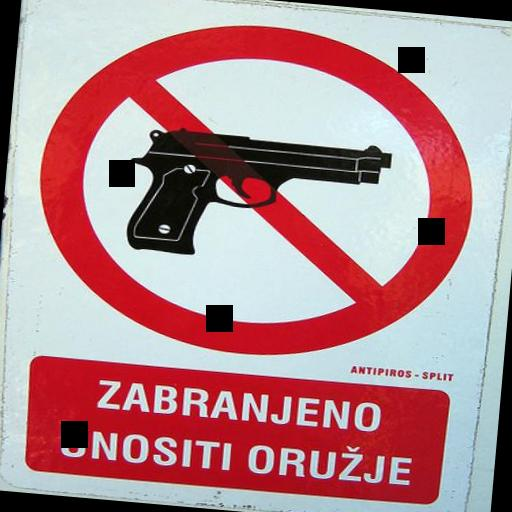Handgun: (121, 123, 393, 269)
